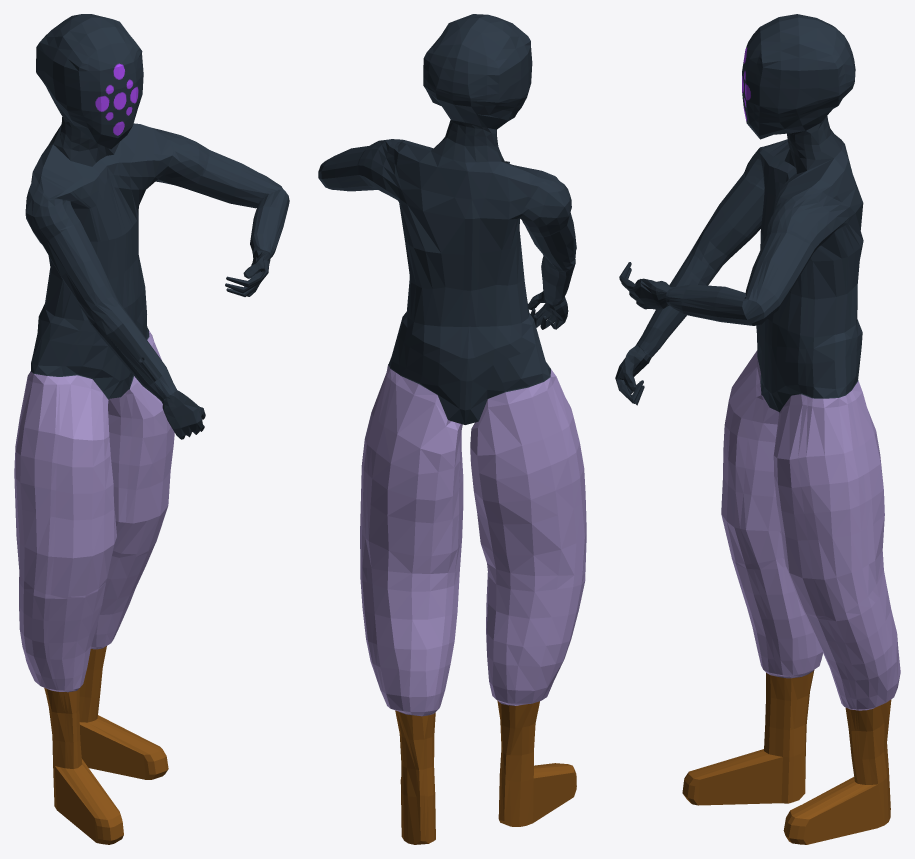
Rendered from Oracle_Reload_000006.obj.
3 renders of one model, left to right at view 1: azimuth 30°, elevation 25°; view 2: azimuth 150°, elevation 25°; view 3: azimuth 270°, elevation 25°, orthographic. The views are drawn at different scales.
Visible parts, largest first — view 1: Cube; view 2: Cube; view 3: Cube.
Part boxes in pixels (bbox=[...]): Cube: bbox=[14, 14, 289, 844]; Cube: bbox=[318, 14, 586, 844]; Cube: bbox=[615, 14, 900, 844].
Size of the model in its own units: 1.36 by 3.94 by 1.28.
